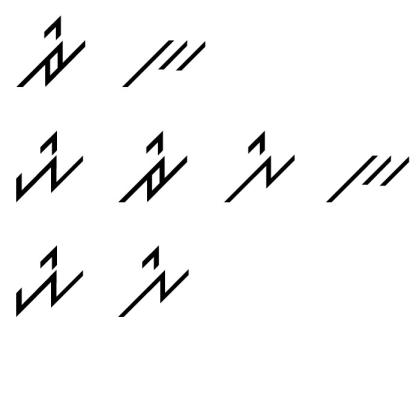li: (111, 241, 195, 324), (218, 130, 304, 206)
ri: (14, 12, 90, 93), (119, 130, 193, 206)
yi: (6, 130, 85, 206), (8, 245, 86, 320)
